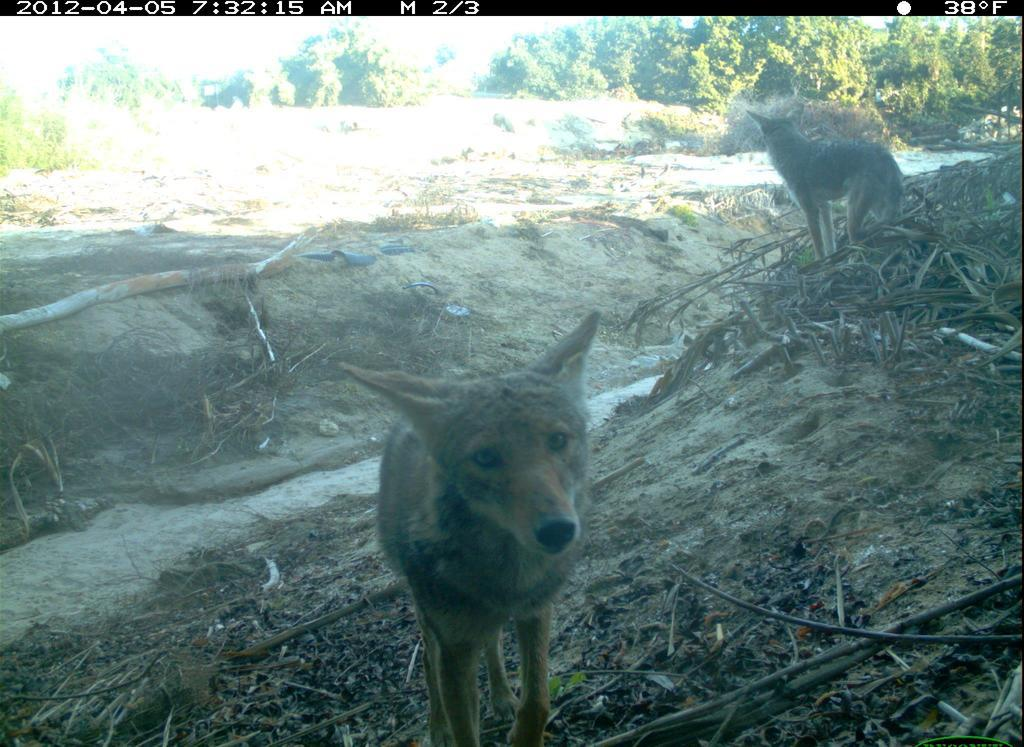coyote: (323, 295, 621, 747), (743, 98, 920, 271)
